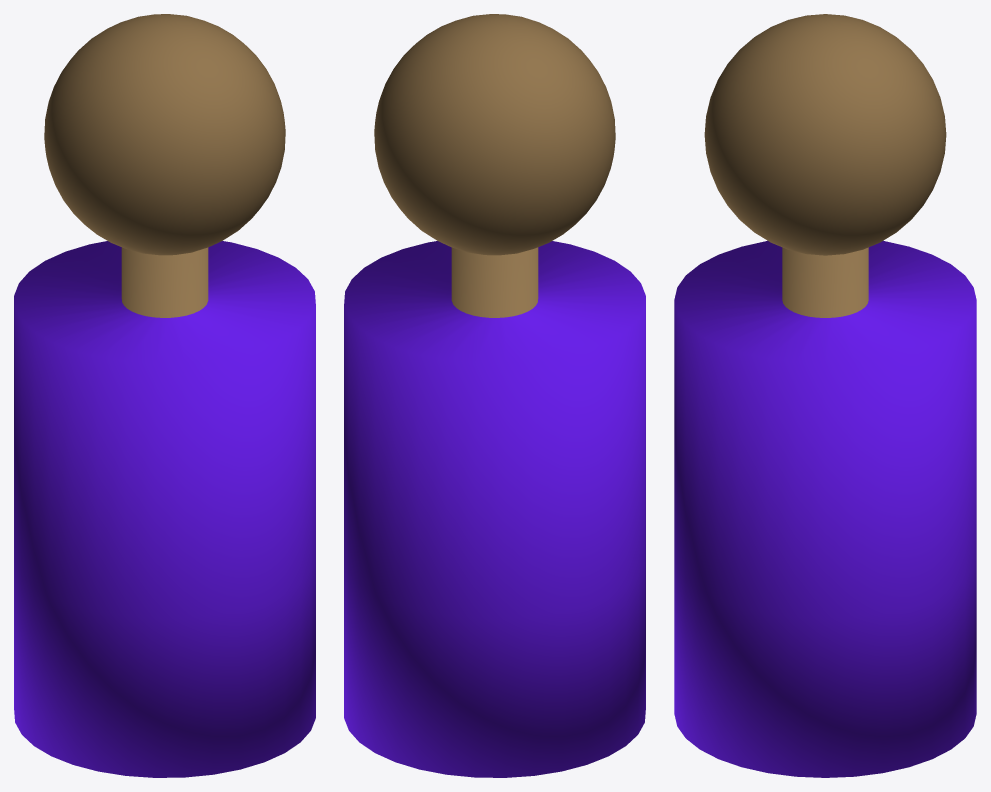
File: Character_05.fbx
3 views of the same model, side by side, from view 1: azimuth 30°, elevation 25°; view 2: azimuth 150°, elevation 25°; view 3: azimuth 270°, elevation 25° (orthographic).
Parts seen in each view (by area): view 1: Circle.005, Icosphere.005; view 2: Circle.005, Icosphere.005; view 3: Circle.005, Icosphere.005.
Part boxes in pixels (box(x1,y1,x2,y2)): Circle.005: box(14, 241, 315, 777); Icosphere.005: box(44, 14, 285, 255); Circle.005: box(344, 241, 645, 777); Icosphere.005: box(374, 14, 615, 255); Circle.005: box(674, 240, 976, 777); Icosphere.005: box(704, 14, 946, 255).
Bounding box in the file's own units: 200 × 503 × 200.
